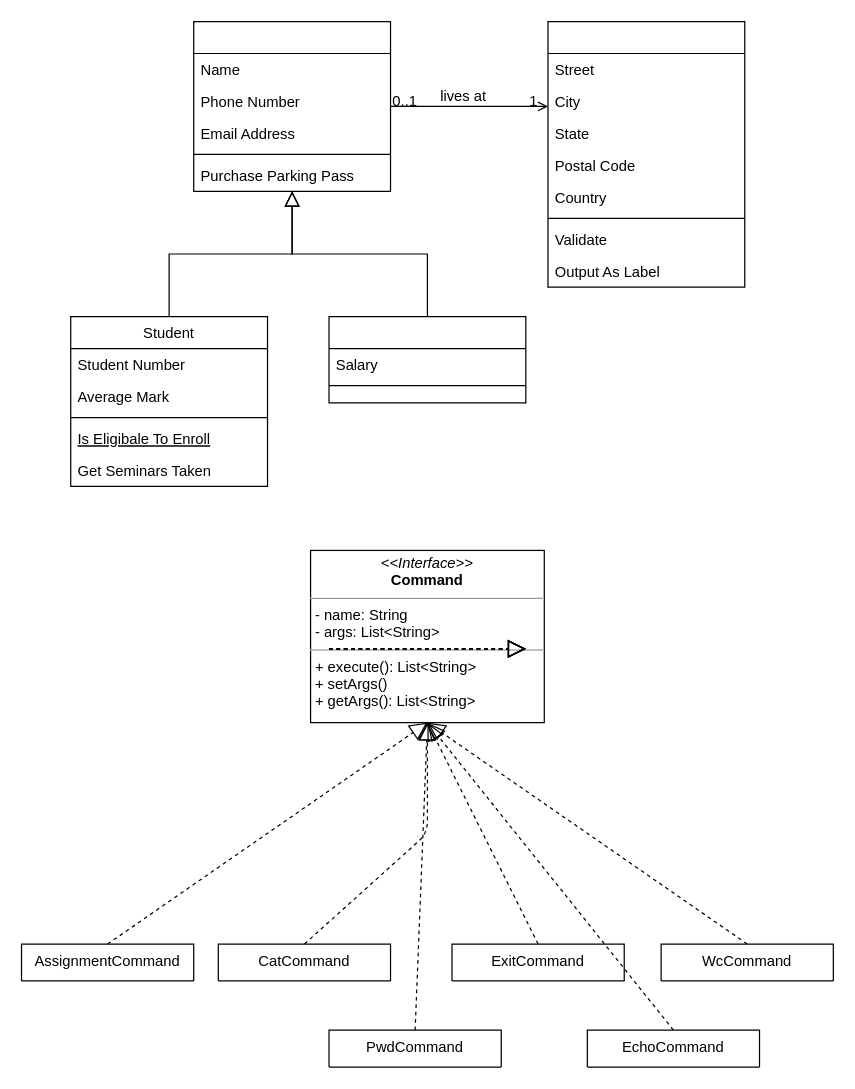
The diagram is 855 pixels wide and 1089 high, and some of its shapes have lost their labels. Here are the shapes that lost their labels. From the top down, the box of each, then its label:
(192, 20, 391, 191): Person
(547, 20, 745, 287): Address
(328, 315, 526, 403): Professor
